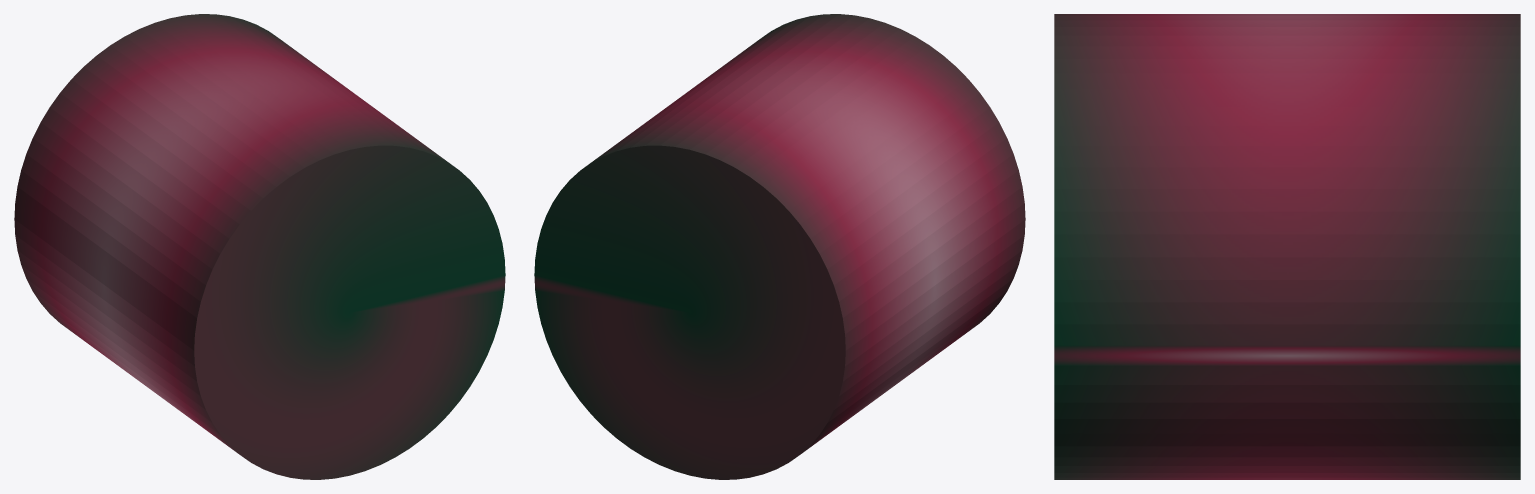
File: cylinder-rose-c1.glb
3 renders of one model, left to right at view 1: azimuth 30°, elevation 25°; view 2: azimuth 150°, elevation 25°; view 3: azimuth 270°, elevation 25°, orthographic. The views are drawn at different scales.
Visible parts, largest first — view 1: world; view 2: world; view 3: world.
Part boxes in pixels (box(x1,y1,x2,y2)): world: box(14, 14, 505, 479); world: box(534, 14, 1025, 479); world: box(1054, 14, 1520, 479).
Bounding box in the file's own units: 1 × 1 × 1.
Materials: 1 (1 with a texture image).
